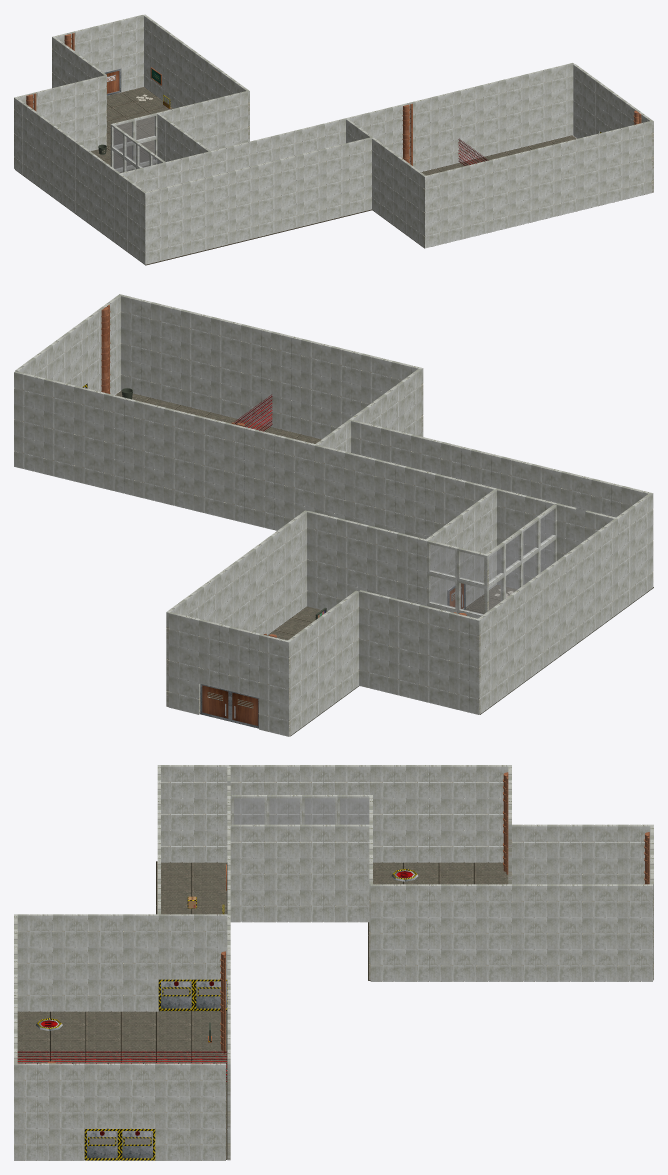
Rendered from Level1.fbx.
3 views of the same model, one above another, from view 1: azimuth 30°, elevation 25°; view 2: azimuth 150°, elevation 25°; view 3: azimuth 270°, elevation 25° (orthographic). The views are drawn at different scales.
Parts seen in each view (by area): view 1: Wall_1, Wall_1.005, Wall_1.001, Wall_1.008, Wall_1.007, Floor, Wall_1.010, Wall_1.003, Wall_1.004, Wall_1.002, Wall_1.011, Wall_2 (+5 smaller); view 2: Wall_1, Wall_1.005, Wall_1.008, Wall_1.003, Wall_1.004, Wall_1.001, Wall_1.002, Wall_1.007, Wall_1.006, Wall_1.011, Wall_1.009, Wall_2.001 (+7 smaller); view 3: Wall_1.007, Wall_1.008, Wall_1.011, Wall_1.010, Floor, Wall_1.009, Wall_1.006, Wall_2.001, Door.003, Door.002, Laser, Wall_1 (+3 smaller).
Part boxes in pixels (x1=…): Wall_1: x1=120, y1=63, x2=573, y2=191; Wall_1.005: x1=423, y1=121, x2=651, y2=248; Wall_1.001: x1=144, y1=137, x2=371, y2=264; Wall_1.008: x1=14, y1=98, x2=146, y2=264; Wall_1.007: x1=143, y1=14, x2=249, y2=141; Floor: x1=15, y1=87, x2=644, y2=265; Wall_1.010: x1=346, y1=118, x2=425, y2=246; Wall_1.003: x1=14, y1=75, x2=105, y2=164; Wall_1.004: x1=52, y1=15, x2=143, y2=92; Wall_1.002: x1=156, y1=91, x2=247, y2=150; Wall_1.011: x1=573, y1=64, x2=653, y2=192; Wall_2: x1=110, y1=113, x2=157, y2=172; Wall_1: x1=14, y1=371, x2=615, y2=589; Wall_1.005: x1=121, y1=295, x2=423, y2=439; Wall_1.008: x1=476, y1=493, x2=652, y2=714; Wall_1.003: x1=359, y1=590, x2=480, y2=714; Wall_1.004: x1=168, y1=612, x2=290, y2=736; Wall_1.001: x1=351, y1=420, x2=653, y2=587; Wall_1.002: x1=307, y1=511, x2=428, y2=611; Wall_1.007: x1=166, y1=510, x2=307, y2=706; Wall_1.006: x1=288, y1=590, x2=358, y2=735; Wall_1.011: x1=15, y1=294, x2=122, y2=394; Wall_1.009: x1=426, y1=489, x2=496, y2=606; Wall_2.001: x1=484, y1=504, x2=556, y2=613; Wall_1.007: x1=370, y1=884, x2=652, y2=981; Wall_1.008: x1=160, y1=765, x2=510, y2=862; Wall_1.011: x1=14, y1=1063, x2=225, y2=1160; Wall_1.010: x1=17, y1=914, x2=227, y2=1011; Floor: x1=17, y1=861, x2=508, y2=1159; Wall_1.009: x1=229, y1=824, x2=370, y2=922; Wall_1.006: x1=512, y1=824, x2=652, y2=884; Wall_2.001: x1=231, y1=795, x2=369, y2=824; Door.003: x1=84, y1=1128, x2=155, y2=1160; Door.002: x1=158, y1=979, x2=227, y2=1010; Laser: x1=17, y1=1051, x2=227, y2=1081; Wall_1: x1=227, y1=766, x2=230, y2=1160.
Bounding box in the file's own units: 15075 × 2265 × 13594.
